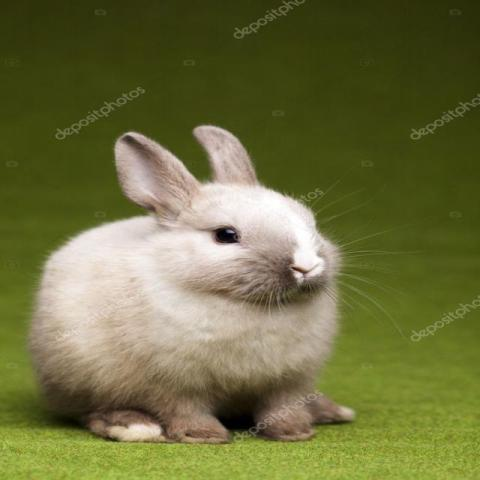small_animal: (26, 122, 360, 446)
